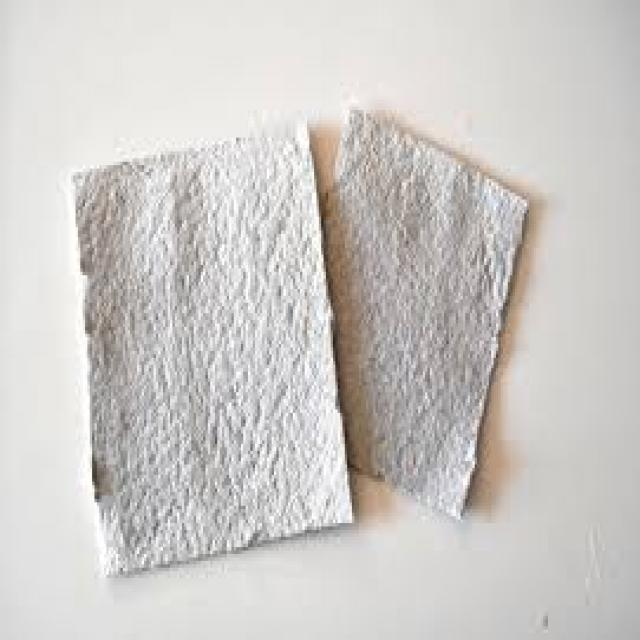Papel: (74, 114, 355, 585), (321, 107, 532, 518)
